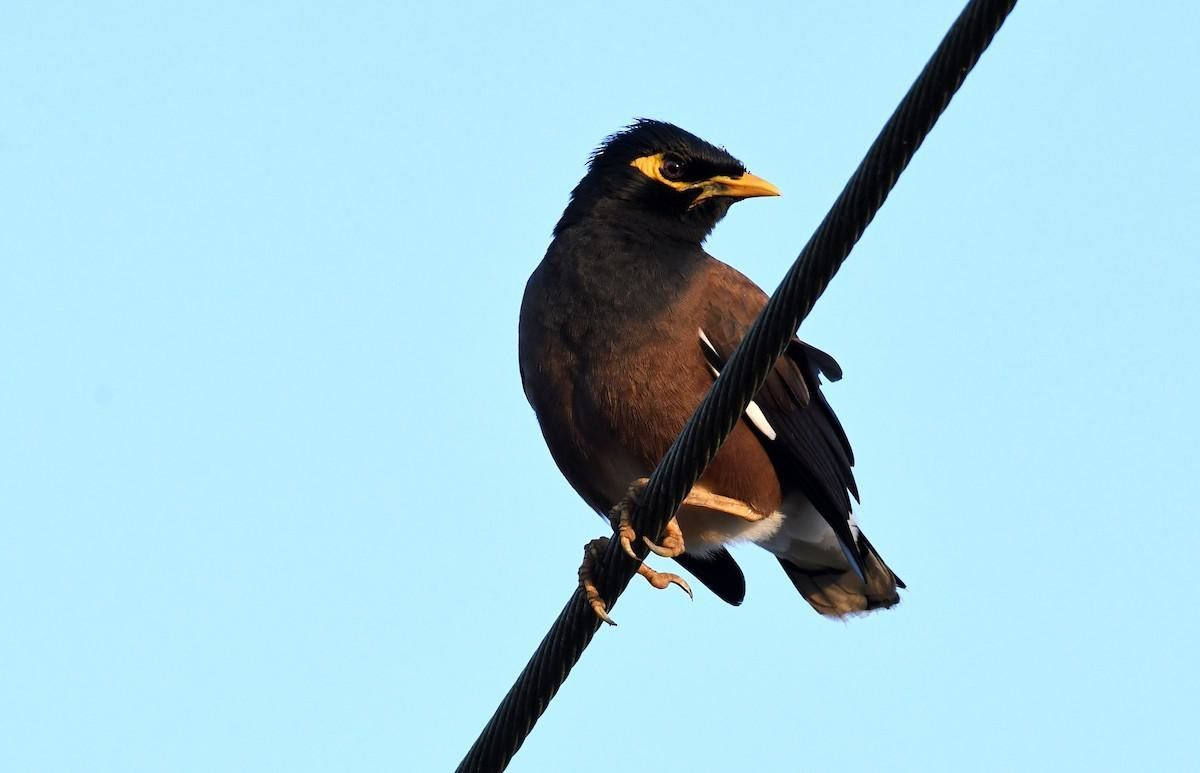myna: (488, 96, 929, 637)
